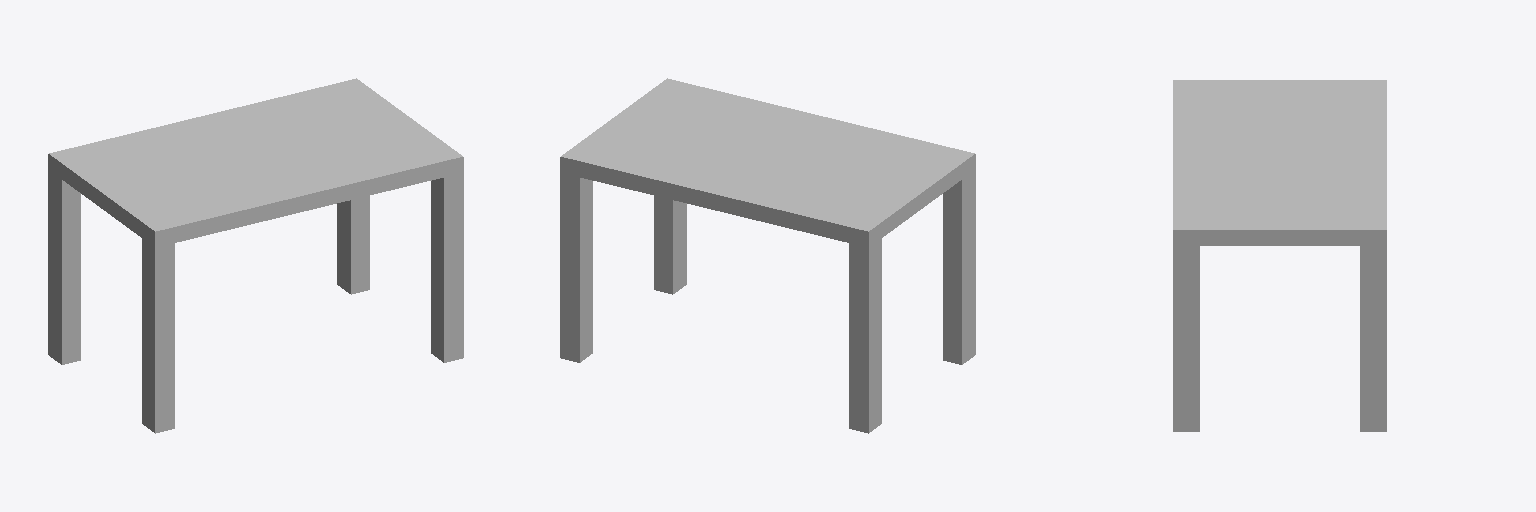
The model's file is table.obj.
3 renders of one model, left to right at view 1: azimuth 30°, elevation 25°; view 2: azimuth 150°, elevation 25°; view 3: azimuth 270°, elevation 25°, orthographic.
Parts seen in each view (by area): view 1: Cube_Cube.001; view 2: Cube_Cube.001; view 3: Cube_Cube.001.
Part boxes in pixels (x1,y1,x2,y2): Cube_Cube.001: (48, 78, 463, 433); Cube_Cube.001: (560, 78, 975, 433); Cube_Cube.001: (1173, 80, 1386, 431).
Bounding box in the file's own units: 10 × 6.26 × 6.